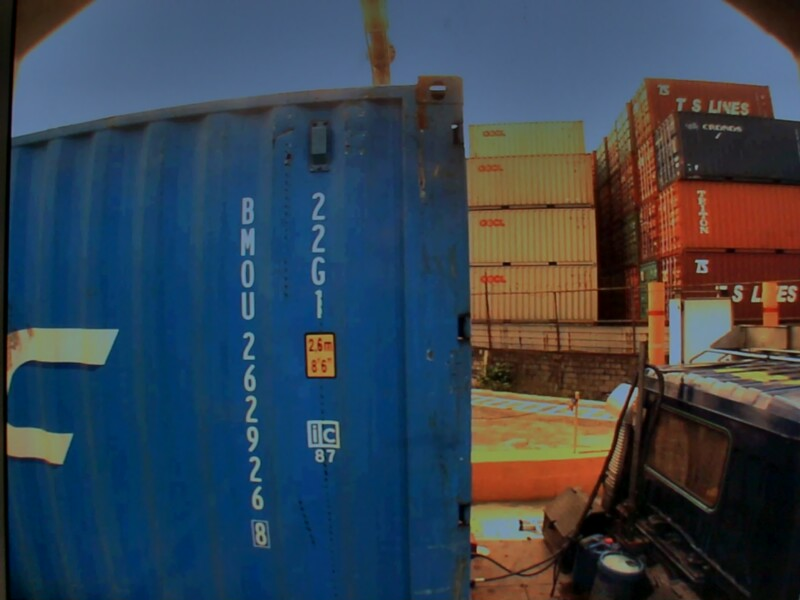container_no_door: (21, 139, 441, 560)
